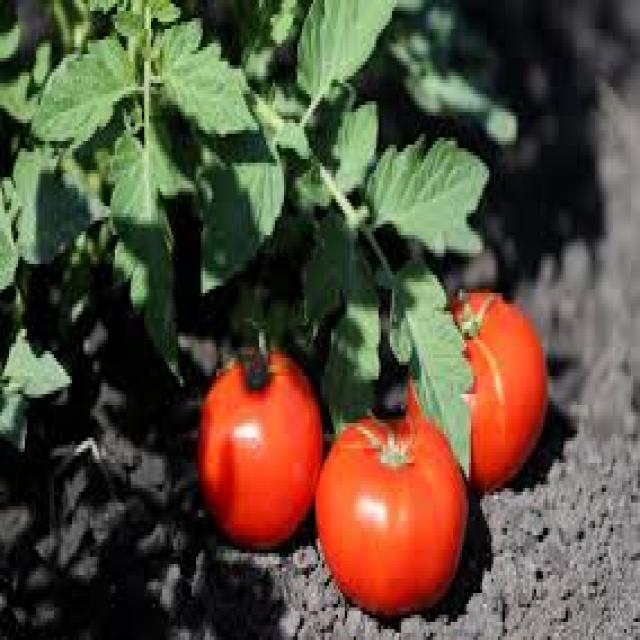Fresh_tomato: (322, 385, 465, 635), (201, 328, 319, 550), (443, 270, 551, 488)
